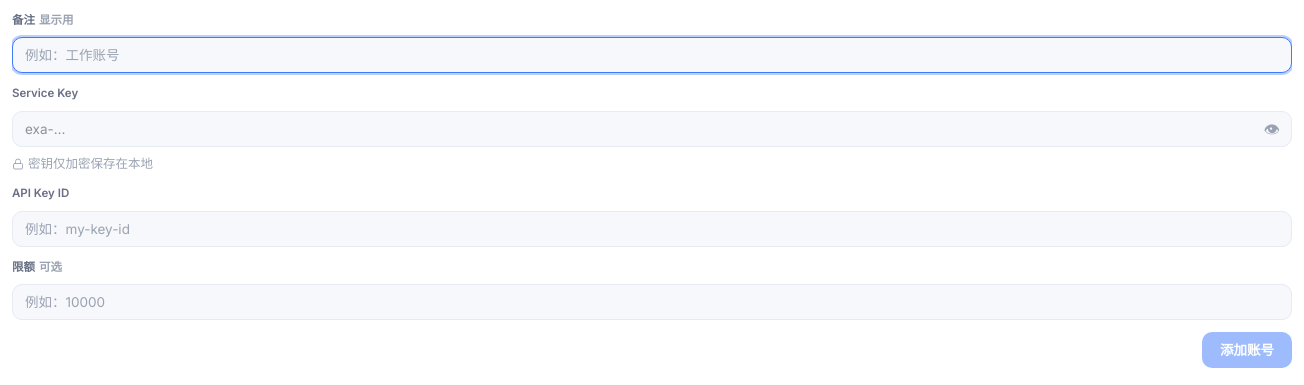
Test: ExaServiceKeyForm › disables save until required fields are entered
The width and height of the screenshot is (1304, 385).
Expected: the button "添加账号" is disabled, x1=1202 y1=332 x2=1292 y2=368
Type "key" into the password field with placeholder "exa-…" at (652, 128), box x1=12 y1=110 x2=1292 y2=146
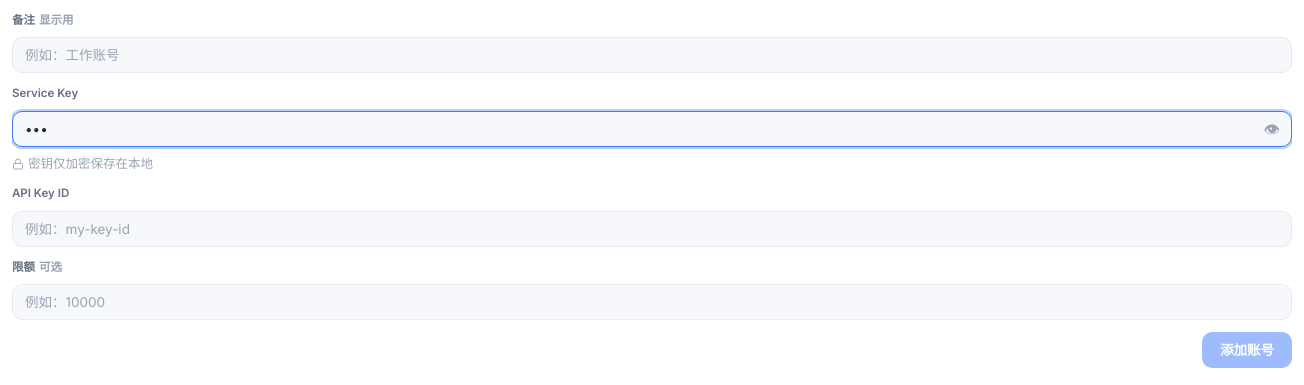
Expected: the button "添加账号" is disabled, x1=1202 y1=332 x2=1292 y2=368
Type "id" into the field with placeholder "例如：my-key-id" at (652, 228), box x1=12 y1=210 x2=1292 y2=246
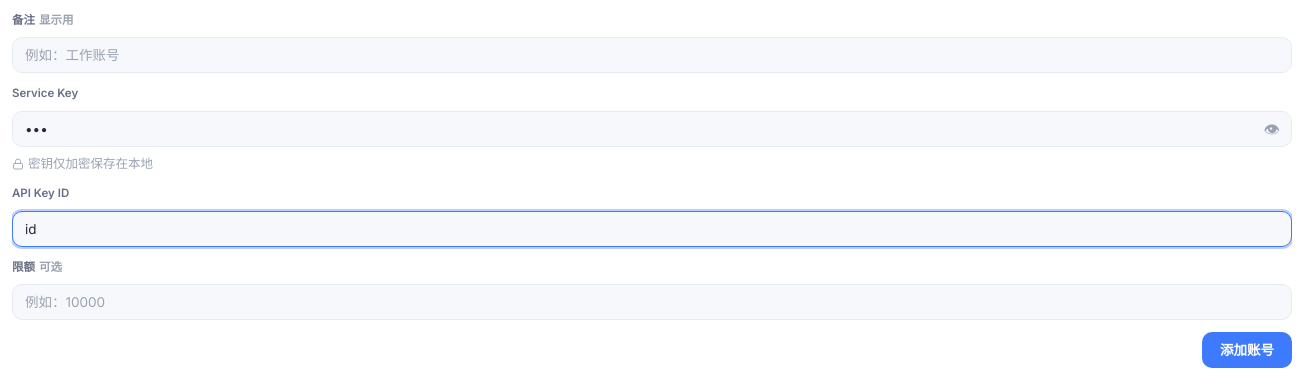
Expected: the button "添加账号" is enabled, x1=1202 y1=332 x2=1292 y2=368
